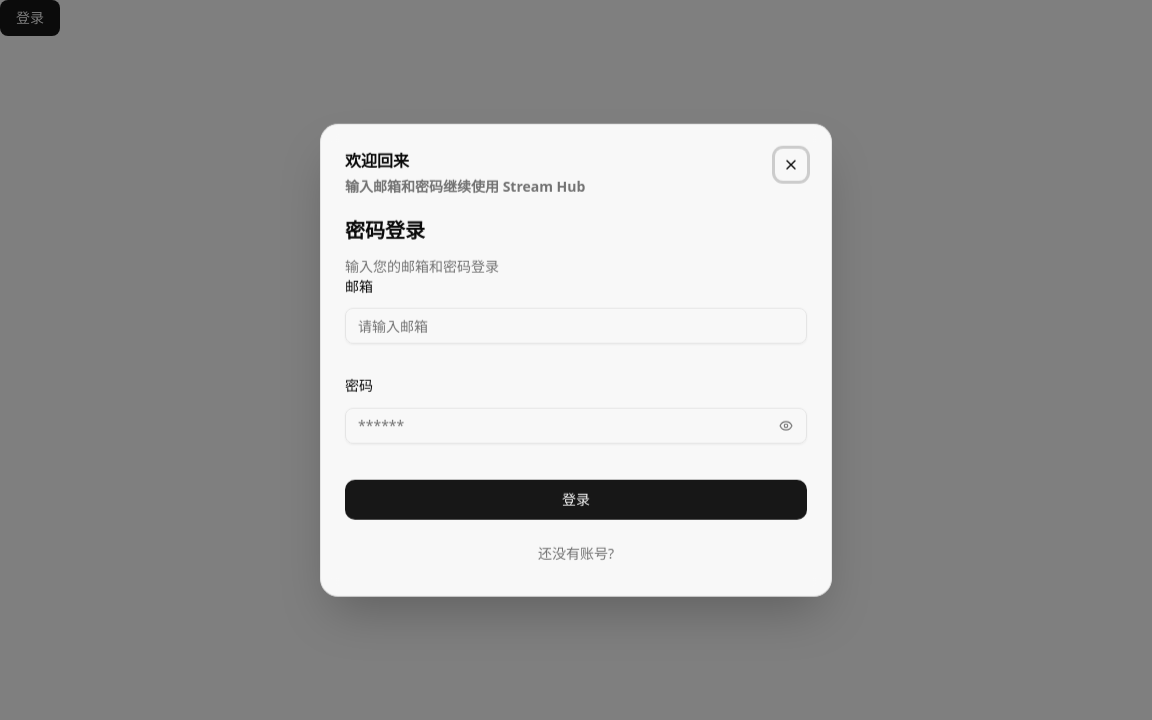
it: AuthModal Component › should render register card when the user clicks the switch button.
Click the button "还没有账号?" at x=576, y=553, box top-left (345, 535), bottom-right (807, 571)
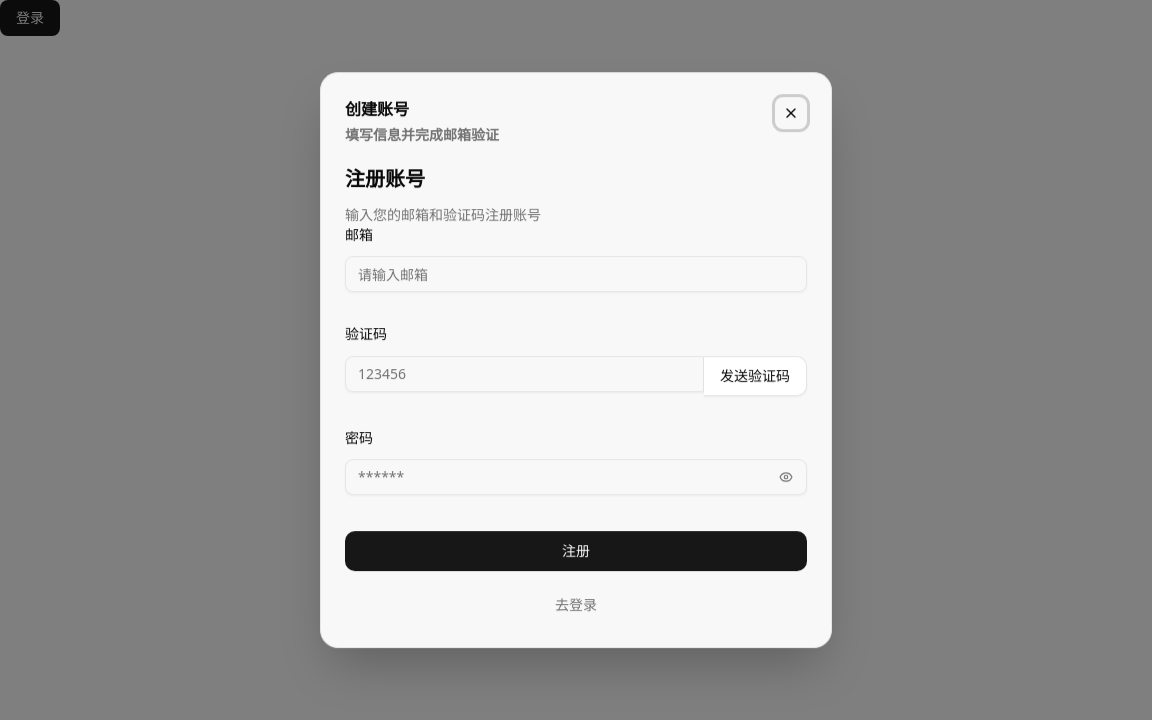
Now the button "去登录" is shown, box top-left (345, 587), bottom-right (807, 623)
Now the button "还没有账号" is gone
